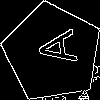A: (27, 27, 78, 69)
